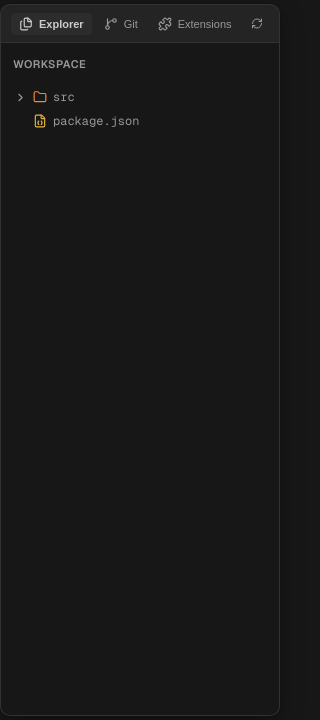
Test: RightSidebar › renders File Explorer with directories and files and expands subdirectories
Expected: the text "package.json" is shown, [53, 113, 139, 129]
// Expand the "src" directory
Click the text "src" at (64, 97), box [53, 89, 75, 105]
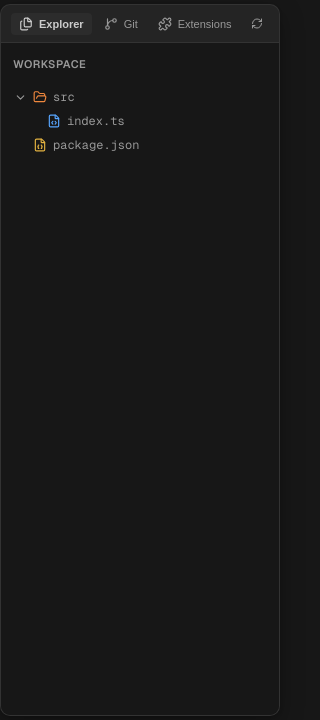
Expected: the text "index.ts" is shown, [67, 113, 125, 129]
// Collapse the "src" directory
Click the text "src" at (64, 97), box [53, 89, 75, 105]
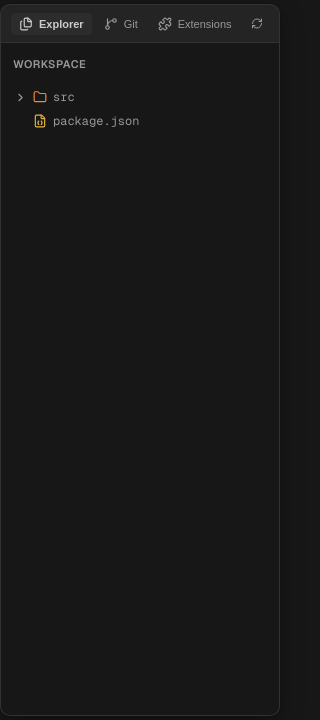
Expected: the text "index.ts" is gone
